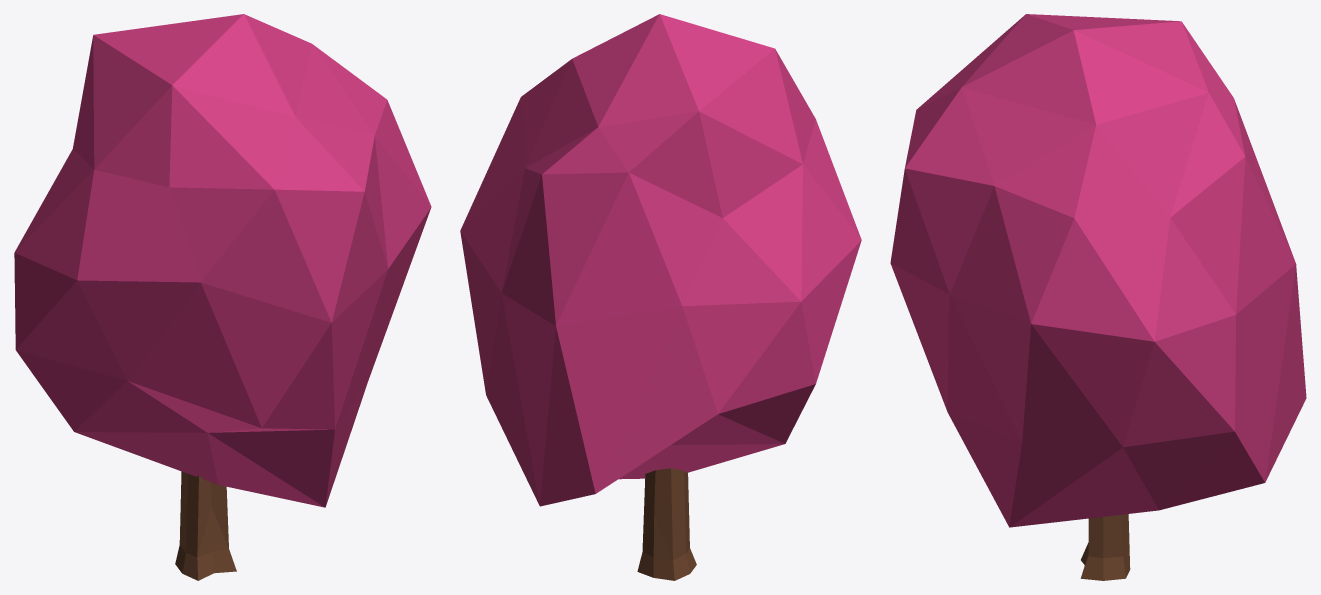
File: Tree_62_Pink.fbx
The picture shows the model from 3 angles, left to right: view 1: azimuth 30°, elevation 25°; view 2: azimuth 150°, elevation 25°; view 3: azimuth 270°, elevation 25°; orthographic projection. The views are drawn at different scales.
Parts seen in each view (by area): view 1: Tree_62_Pink_Part_1, Tree_62_Pink_Part_2; view 2: Tree_62_Pink_Part_1, Tree_62_Pink_Part_2; view 3: Tree_62_Pink_Part_1, Tree_62_Pink_Part_2.
Part boxes in pixels (x1=…): Tree_62_Pink_Part_1: x1=14, y1=14, x2=431, y2=507; Tree_62_Pink_Part_2: x1=175, y1=471, x2=236, y2=580; Tree_62_Pink_Part_1: x1=460, y1=14, x2=861, y2=506; Tree_62_Pink_Part_2: x1=637, y1=468, x2=696, y2=580; Tree_62_Pink_Part_1: x1=890, y1=14, x2=1306, y2=527; Tree_62_Pink_Part_2: x1=1080, y1=514, x2=1130, y2=580.
Bounding box in the file's own units: 533 × 788 × 540.
